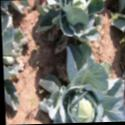cabbage: (70, 91, 104, 123), (62, 0, 89, 25)
